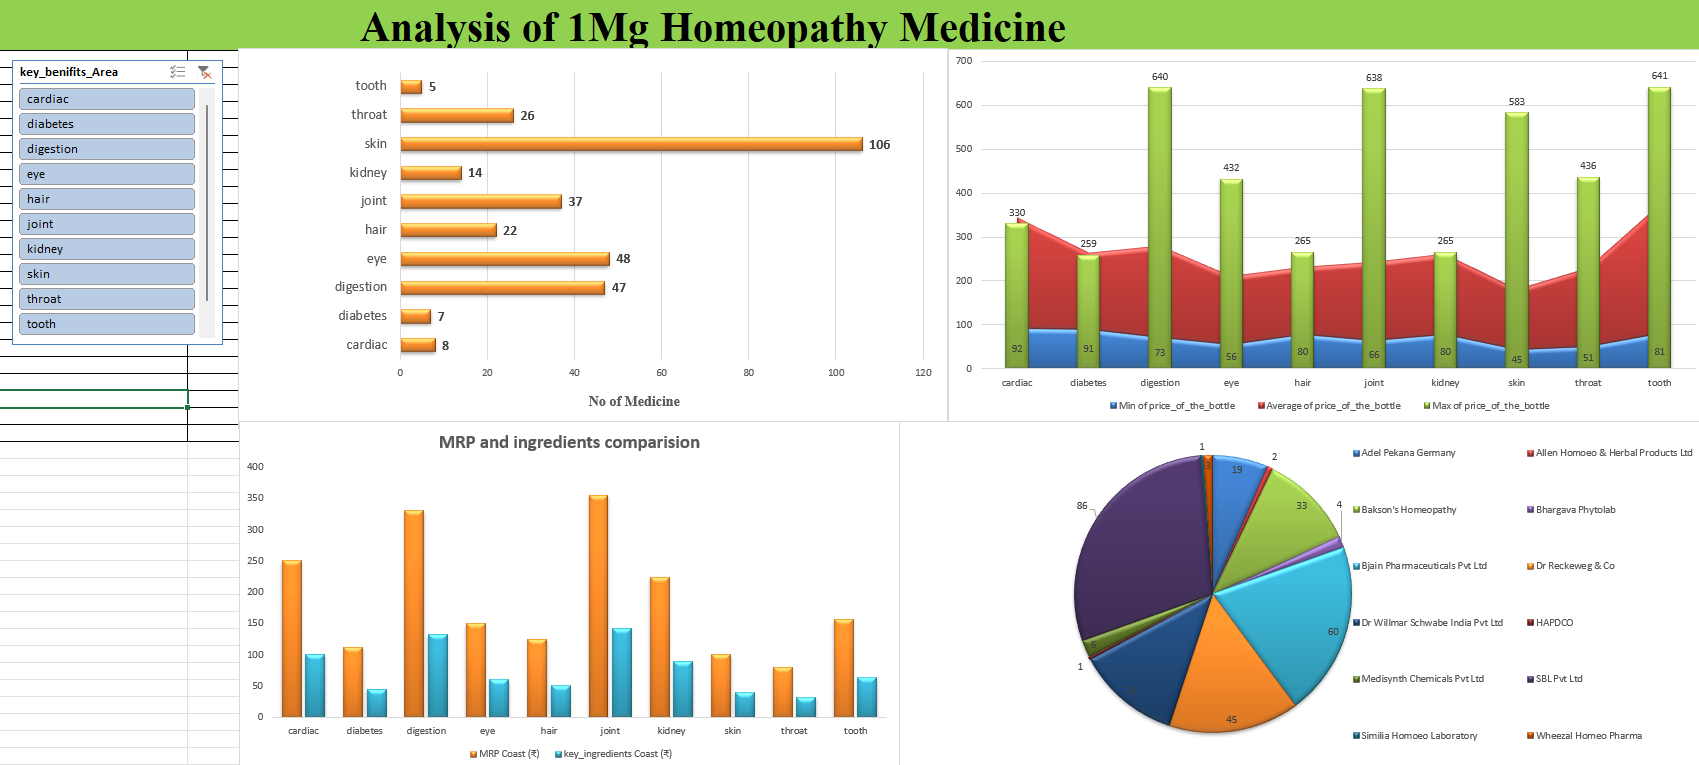

This screenshot's page, from the dashboard's own definition file:
{"tool":"powerbi","page":{"name":"Page 1","canvas":[1280,720],"ordinal":0},"visuals":[{"type":"barChart","title":"Medicine count by key benifits Area","fields":{"Category":["Sheet1 (2).key_benifits_Area"],"Y":["CountNonNull(Sheet1 (2).key_benifits)"]},"box":[12.8,124.4,339.5,279.1],"z":0},{"type":"donutChart","title":"Count of Medicine by Each Brand","fields":{"Category":["Sheet1 (2).brand_name"],"Y":["CountNonNull(Sheet1 (2).Column1)"]},"box":[12.8,430.2,381.4,273.3],"z":1000},{"type":"clusteredColumnChart","title":"Max, Min, Avg Price by key benifits Area","fields":{"Category":["Sheet1 (2).key_benifits_Area"],"Y":["Max(Sheet1 (2).mrp_of_the_bottle)","Min(Sheet1 (2).mrp_of_the_bottle)","Avg(Sheet1 (2).mrp_of_the_bottle)"]},"box":[368.6,124.4,532.6,279.1],"z":2000},{"type":"columnChart","title":"Count of medicine according to benifit area for each Brand","fields":{"Category":["Sheet1 (2).brand_name"],"Series":["Sheet1 (2).key_benifits_Area"],"Y":["CountNonNull(Sheet1 (2).key_benifits_Area)"]},"box":[423.3,430.2,837.2,273.3],"z":3000},{"type":"clusteredColumnChart","title":"Avg MRP and Avg Price Comparision according to key benifit area","fields":{"Category":["Sheet1 (2).key_benifits_Area"],"Y":["Avg(Sheet1 (2).mrp_of_the_bottle)","Avg(Sheet1 (2).price_of_the_bottle)"]},"box":[929.1,124.4,331.4,279.1],"z":4000},{"type":"slicer","fields":{"Values":["Sheet1 (2).key_benifits_Area"]},"box":[12.8,19.8,160.5,94.2],"z":5000},{"type":"slicer","fields":{"Values":["Sheet1 (2).brand_name"]},"box":[964,19.8,296.5,82.6],"z":6000},{"type":"textbox","box":[195.3,19.8,751.2,69.8],"z":7000}]}

Visuals, with their boxes on the page's 1280x720 design canvas (x1, y1, x2, y2). These are canvas units, not pixel positions in the 1699x765 screenshot, which may show the page scaled, cropped or inside an application window:
"Medicine count by key benifits Area" barChart: <region>13, 124, 352, 404</region>
"Count of Medicine by Each Brand" donutChart: <region>13, 430, 394, 704</region>
"Max, Min, Avg Price by key benifits Area" clusteredColumnChart: <region>369, 124, 901, 404</region>
"Count of medicine according to benifit area for each Brand" columnChart: <region>423, 430, 1260, 704</region>
"Avg MRP and Avg Price Comparision according to key benifit area" clusteredColumnChart: <region>929, 124, 1260, 404</region>
slicer - Sheet1 (2).key_benifits_Area: <region>13, 20, 173, 114</region>
slicer - Sheet1 (2).brand_name: <region>964, 20, 1260, 102</region>
textbox: <region>195, 20, 946, 90</region>
